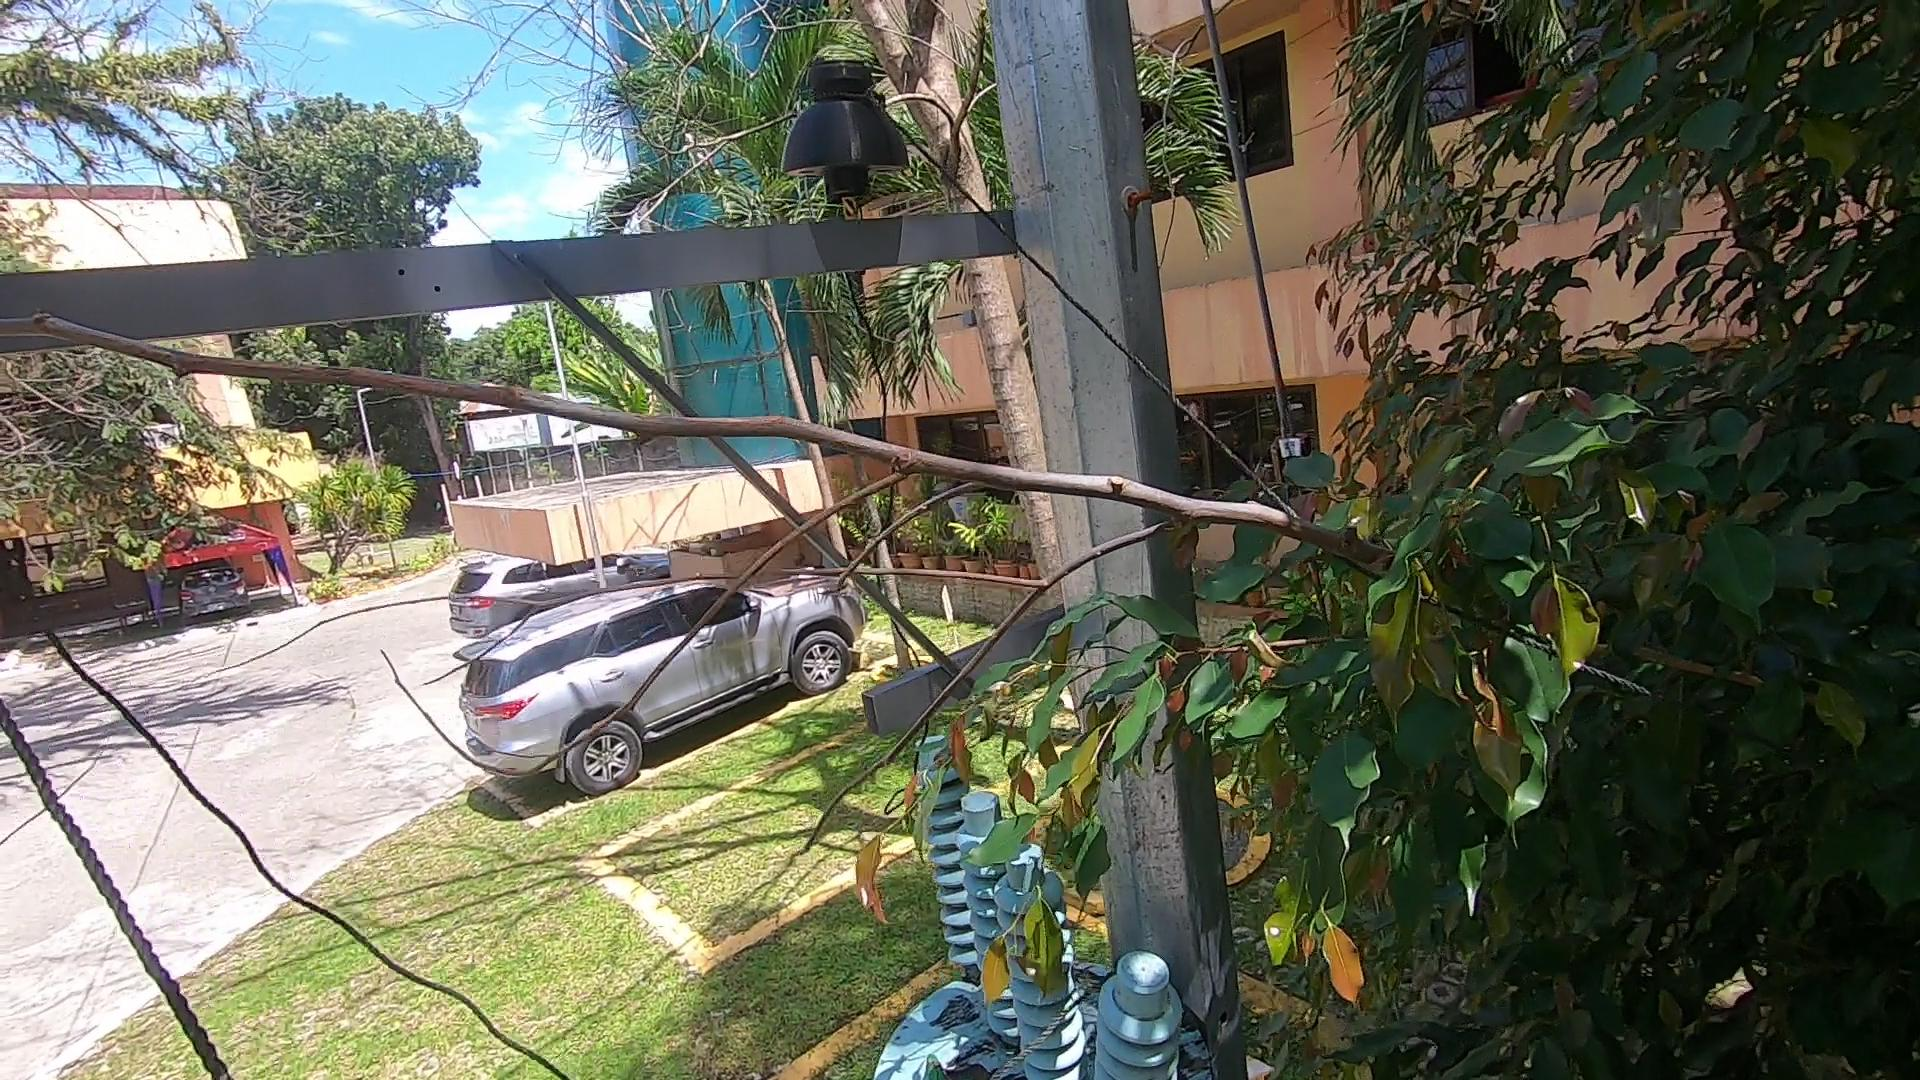leaf: (943, 1058, 993, 1080)
tree branch: (1, 257, 1567, 848)
